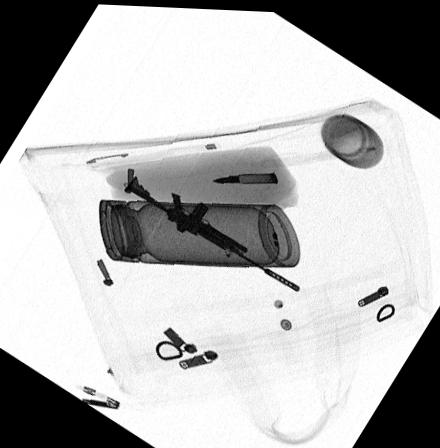Bullet: (211, 170, 278, 182)
Gun: (124, 175, 300, 289)
